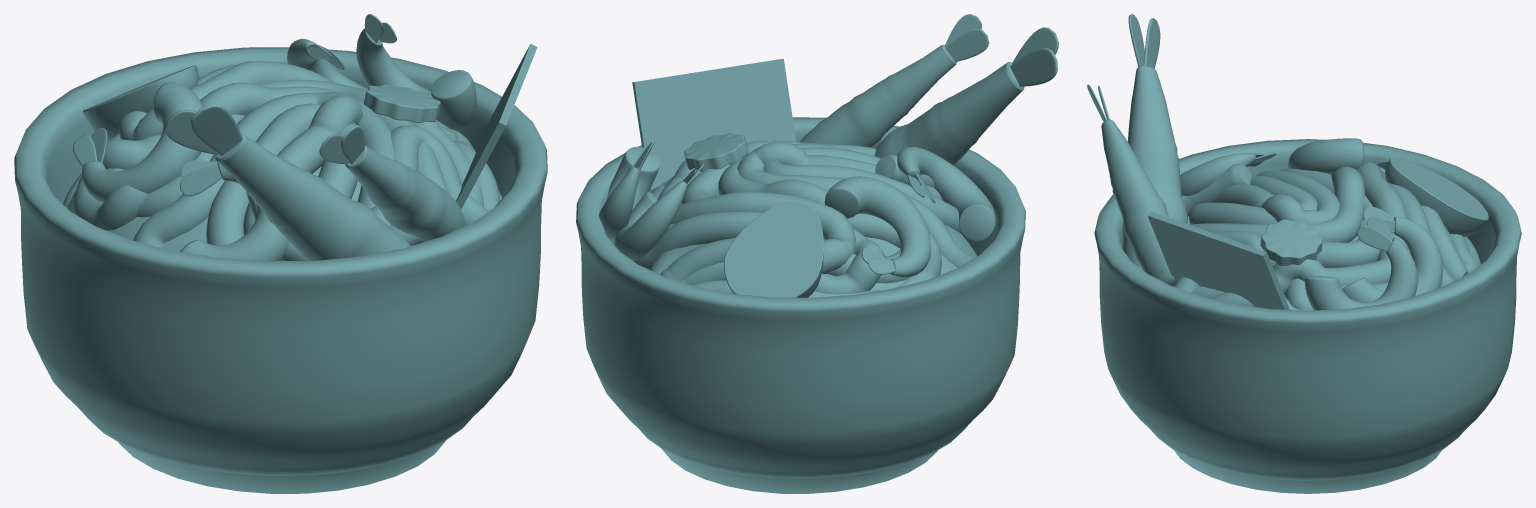
File: SM_RAMEN_3.fbx
3 views of the same model, side by side, from view 1: azimuth 30°, elevation 25°; view 2: azimuth 150°, elevation 25°; view 3: azimuth 270°, elevation 25° (orthographic). The views are drawn at different scales.
Visible parts, largest first — view 1: SM_RAMEN_3; view 2: SM_RAMEN_3; view 3: SM_RAMEN_3.
Part boxes in pixels (x1,y1,x2,y2): SM_RAMEN_3: [14, 14, 547, 493]; SM_RAMEN_3: [576, 14, 1058, 493]; SM_RAMEN_3: [1087, 14, 1521, 493].
Size of the model in its own units: 20.52 by 18.68 by 20.86.
